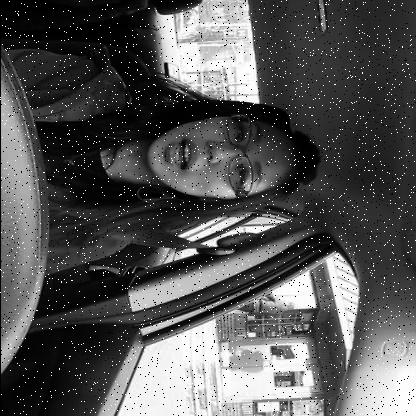seatbelt: (14, 96, 330, 262)
